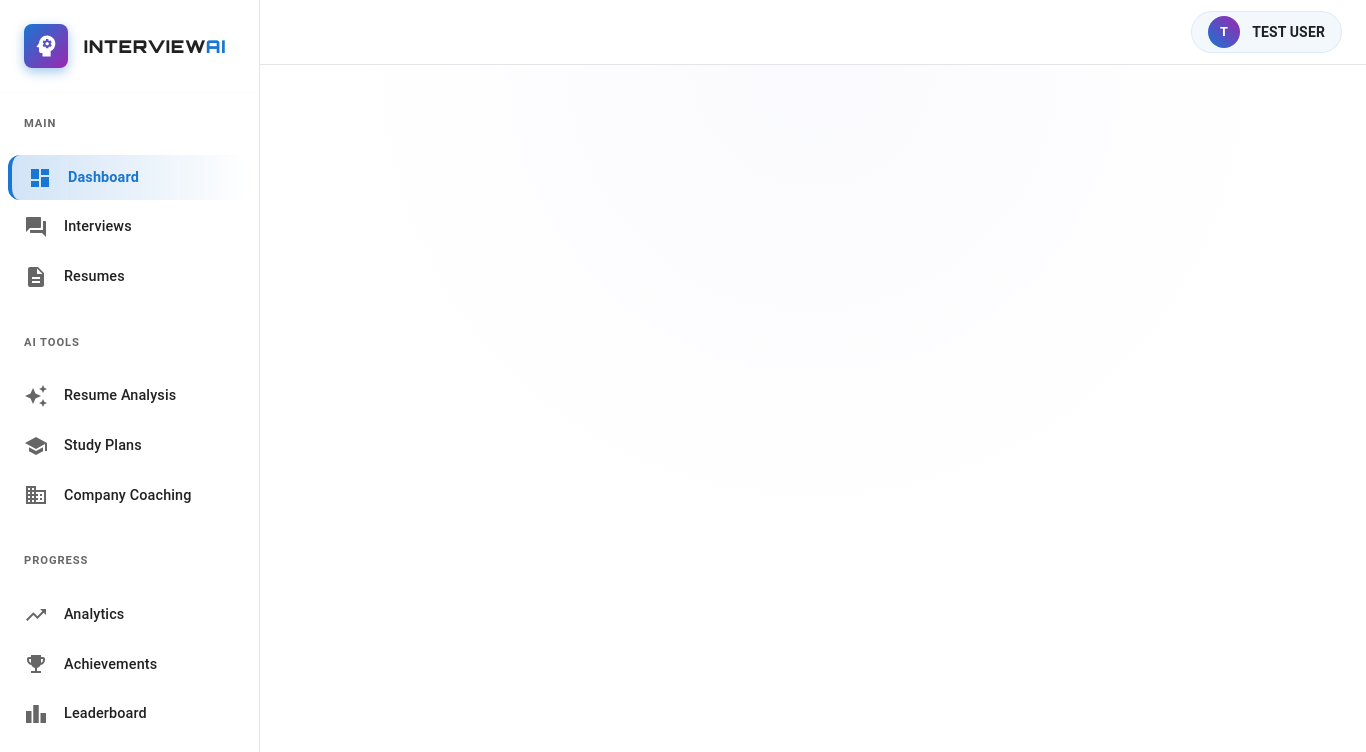
Test case: MainLayout › User Menu › should open user menu when clicking user button
The image size is (1366, 752).
Click the text "Test User" at (1289, 32), box 1252,22 -> 1325,42
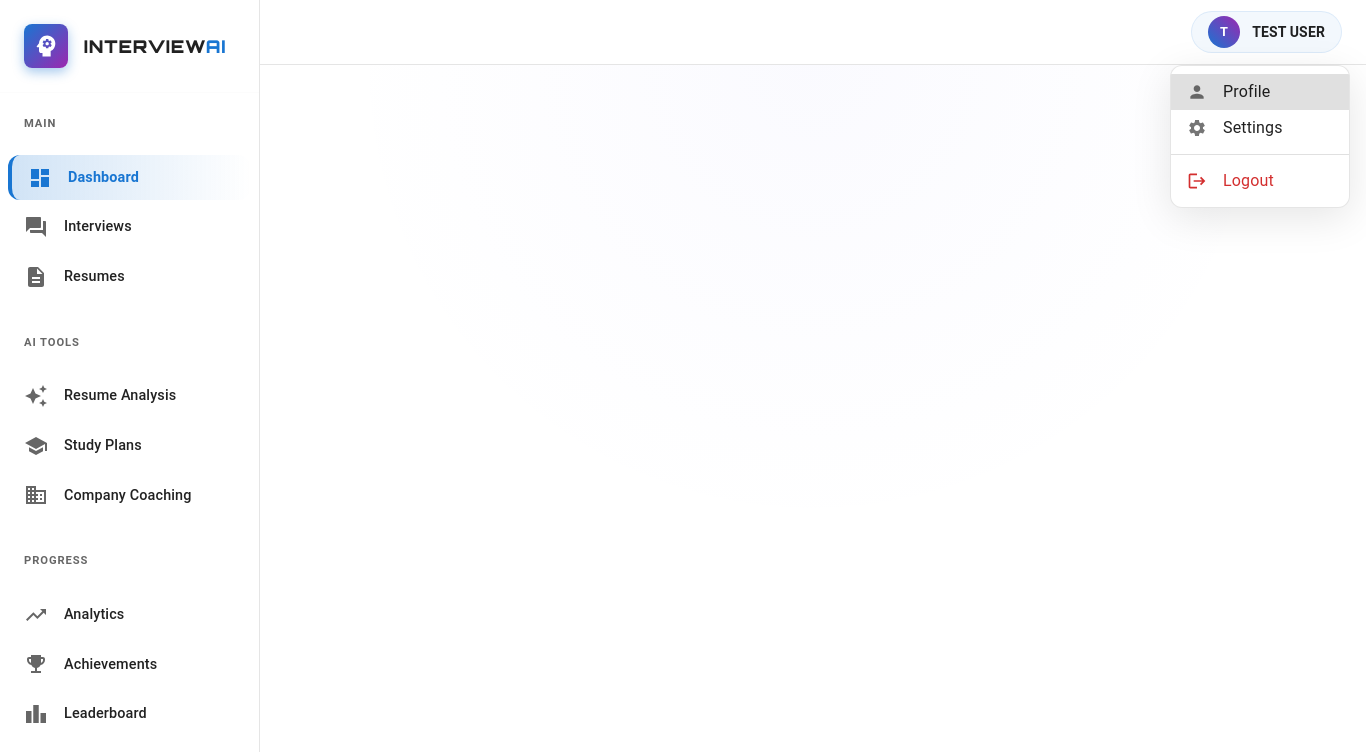
Result: the menu item "Logout" is shown at 1187,171 -> 1274,191
